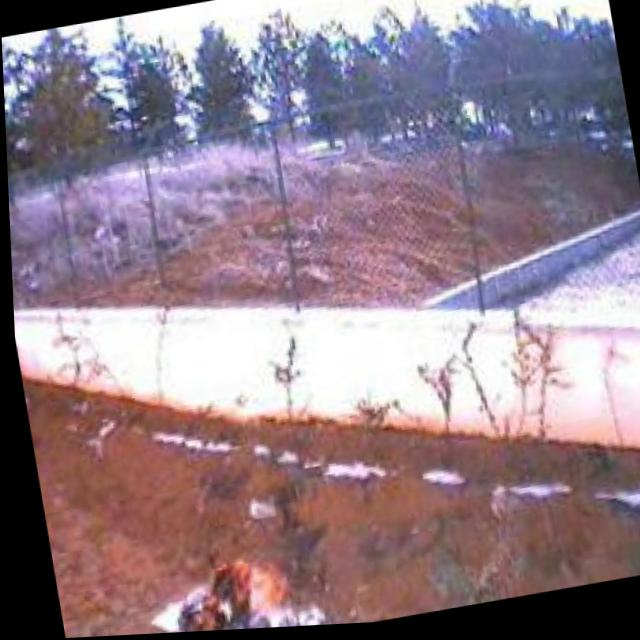Fire: (155, 552, 295, 634)
